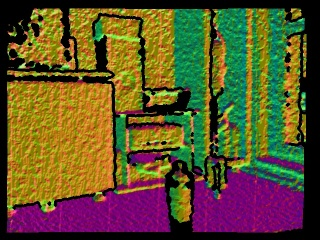station: (204, 155, 229, 190)
